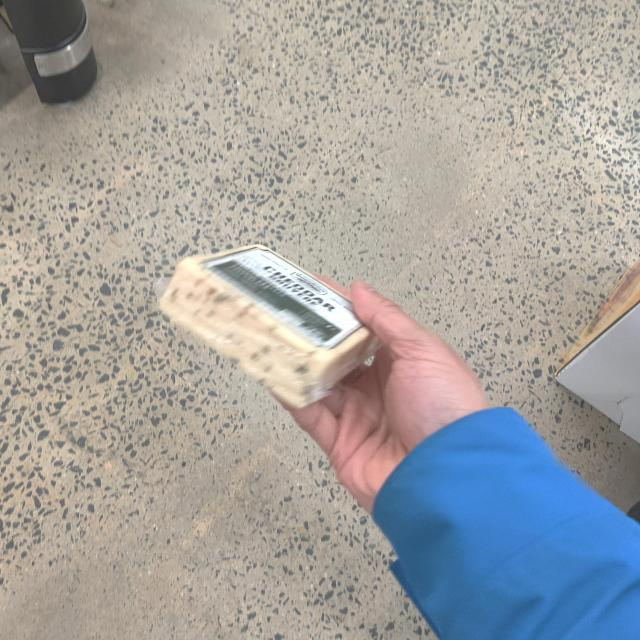cheese: (156, 232, 374, 400)
